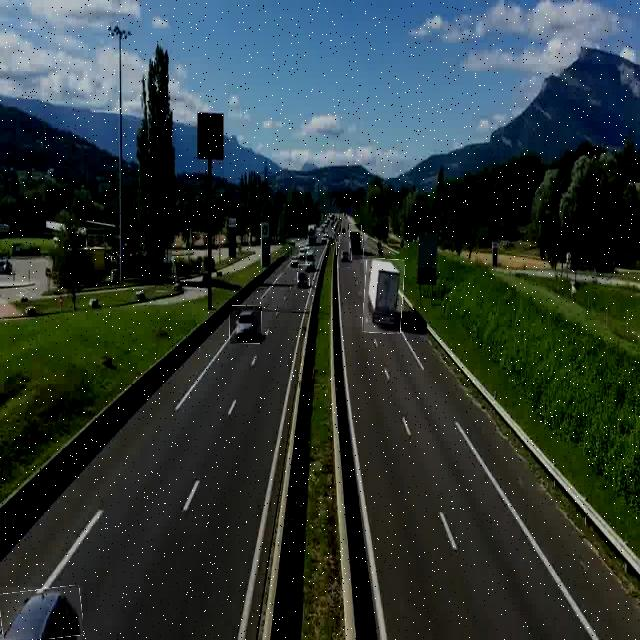Car: (0, 587, 82, 640), (230, 306, 262, 344), (297, 264, 310, 293), (337, 242, 350, 268)
Truck: (364, 259, 404, 333), (350, 224, 364, 260)
